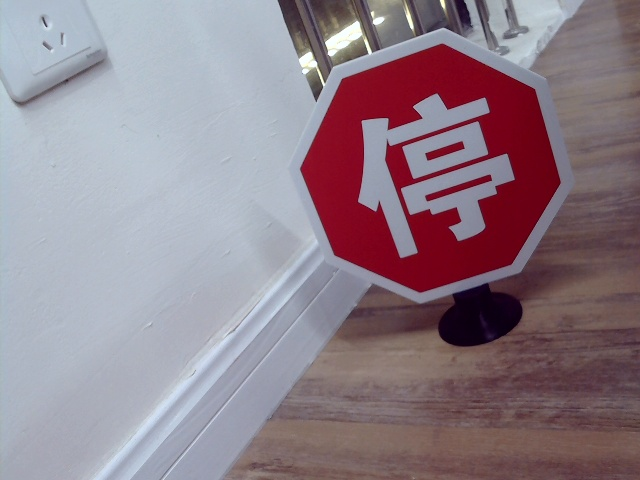stop: (347, 97, 515, 255)
